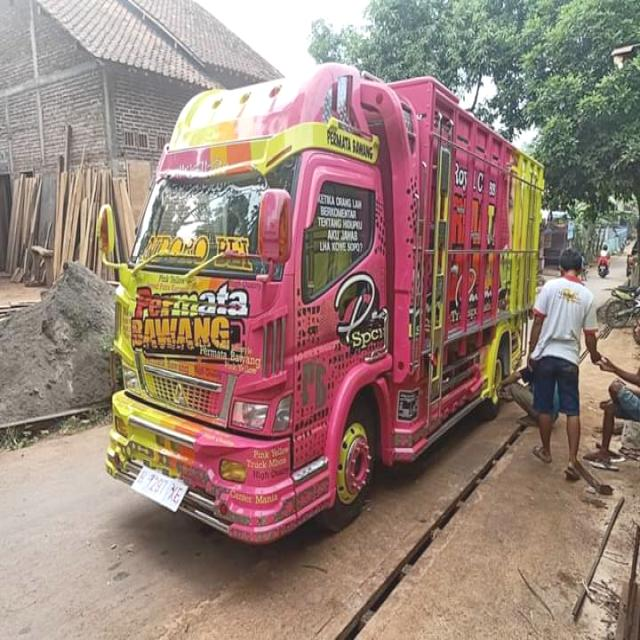truck: (97, 64, 545, 546)
